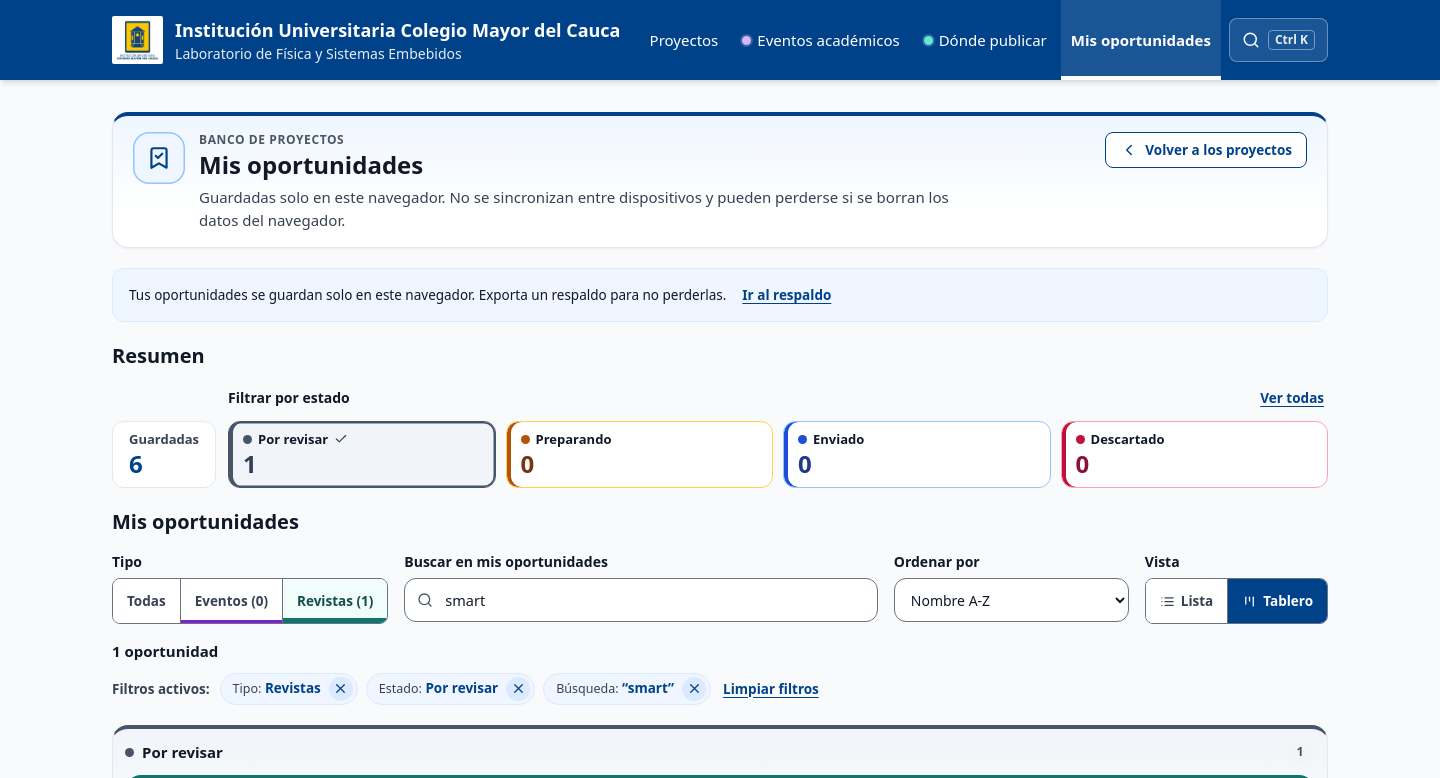
Scenario: active filters › shows removable chips for type, status and search plus «Limpiar filtros» (it keeps sort and view)
This screenshot has width=1440, height=778.
Expected: the heading "Mis oportunidades" below "Banco de proyectos" is shown, top-left (199, 148), bottom-right (423, 181)
Click the button named "Quitar filtro: Estado: Por revisar": (518, 689) top-left (506, 677), bottom-right (530, 701)
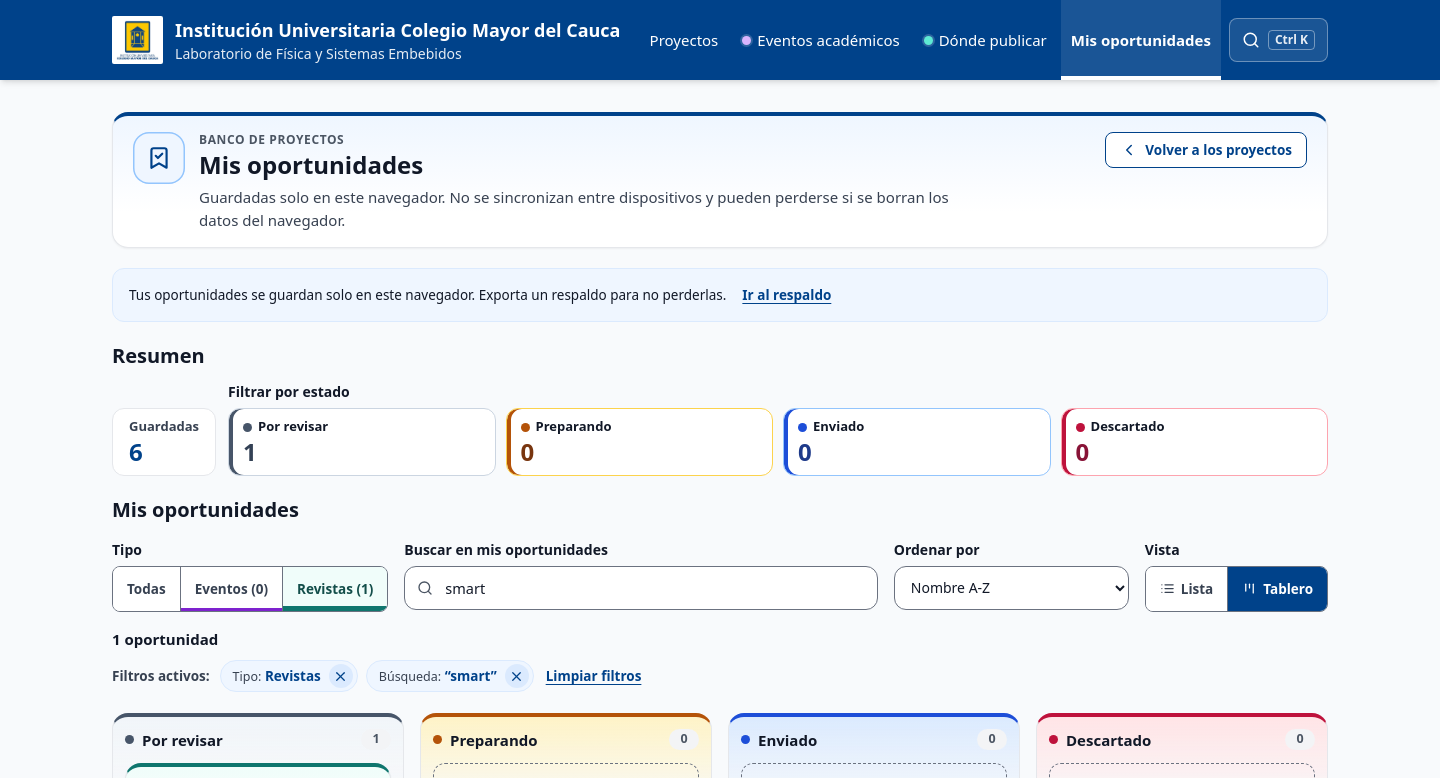
Click the button "Limpiar filtros": (594, 676) top-left (542, 660), bottom-right (645, 693)
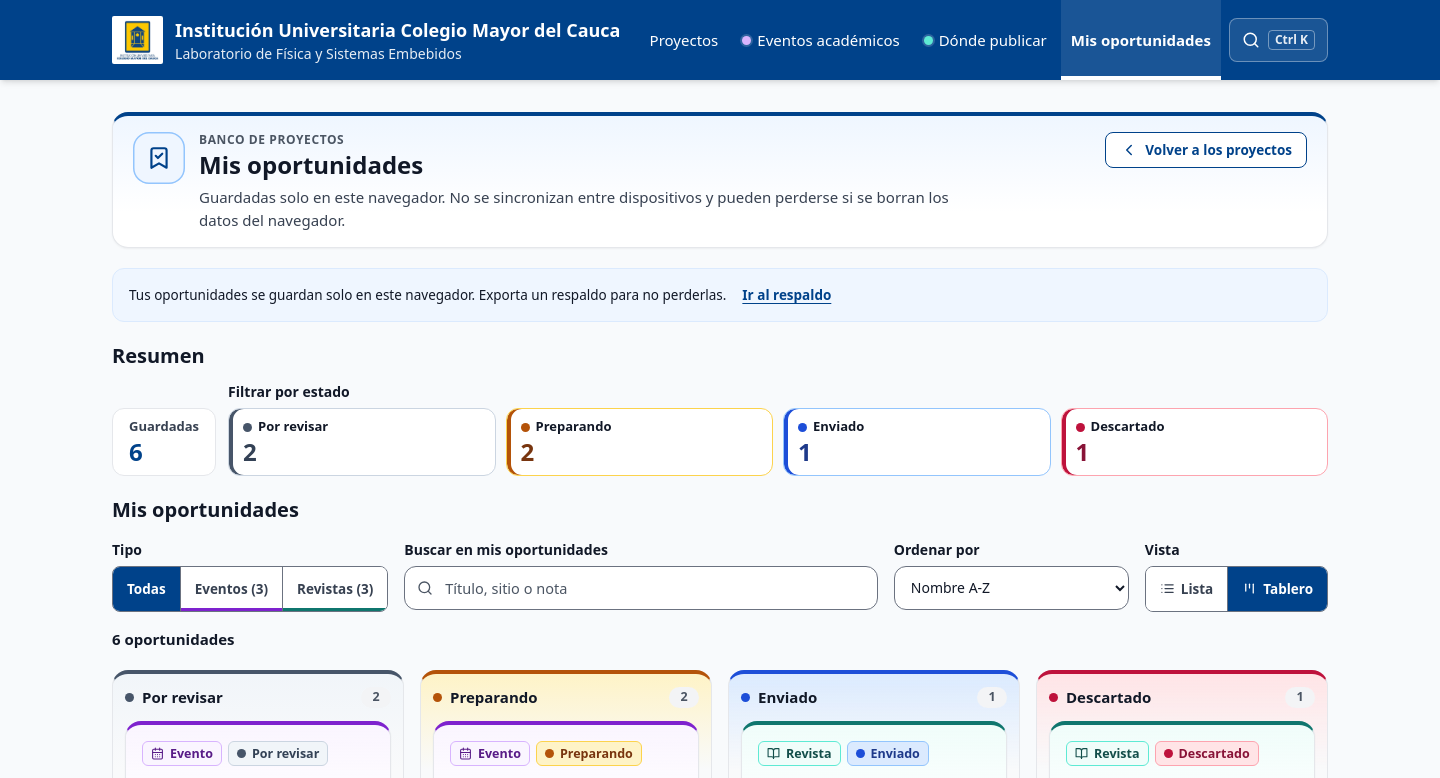
Now the text "Filtros activos" is gone
